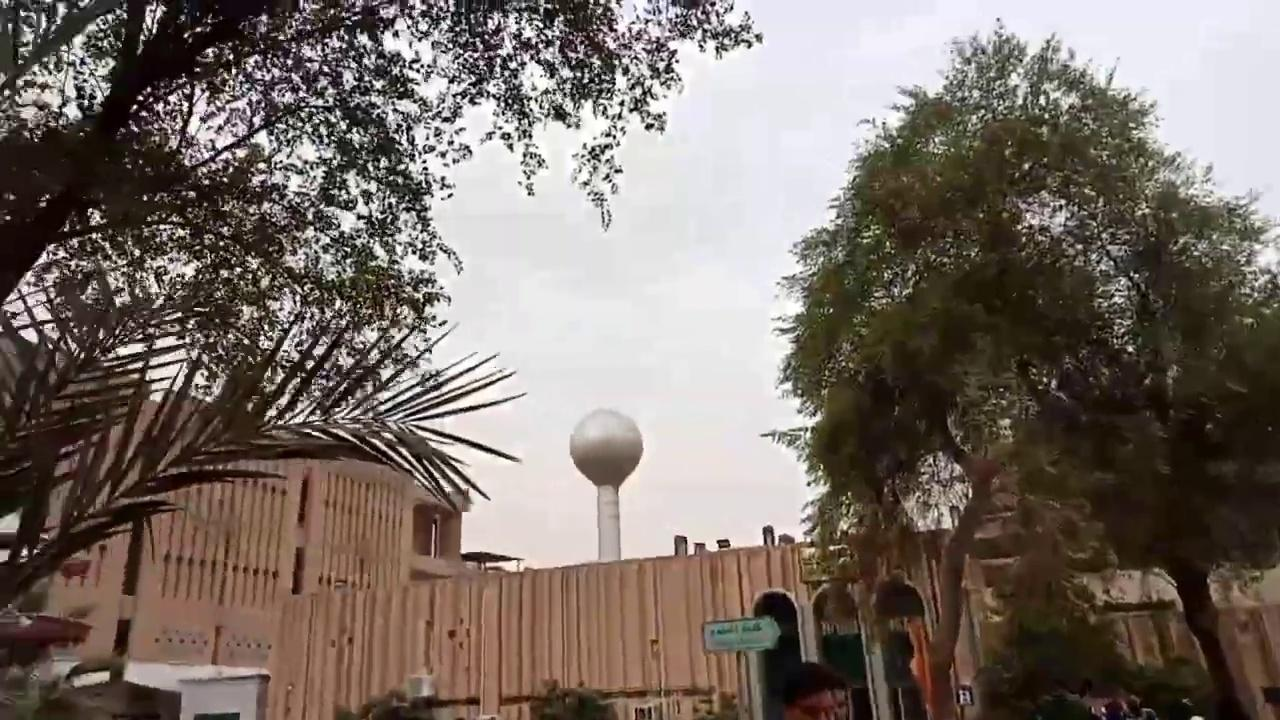person: (751, 589, 803, 718), (779, 661, 848, 719)
tree: (0, 0, 763, 663), (761, 17, 1278, 717)
